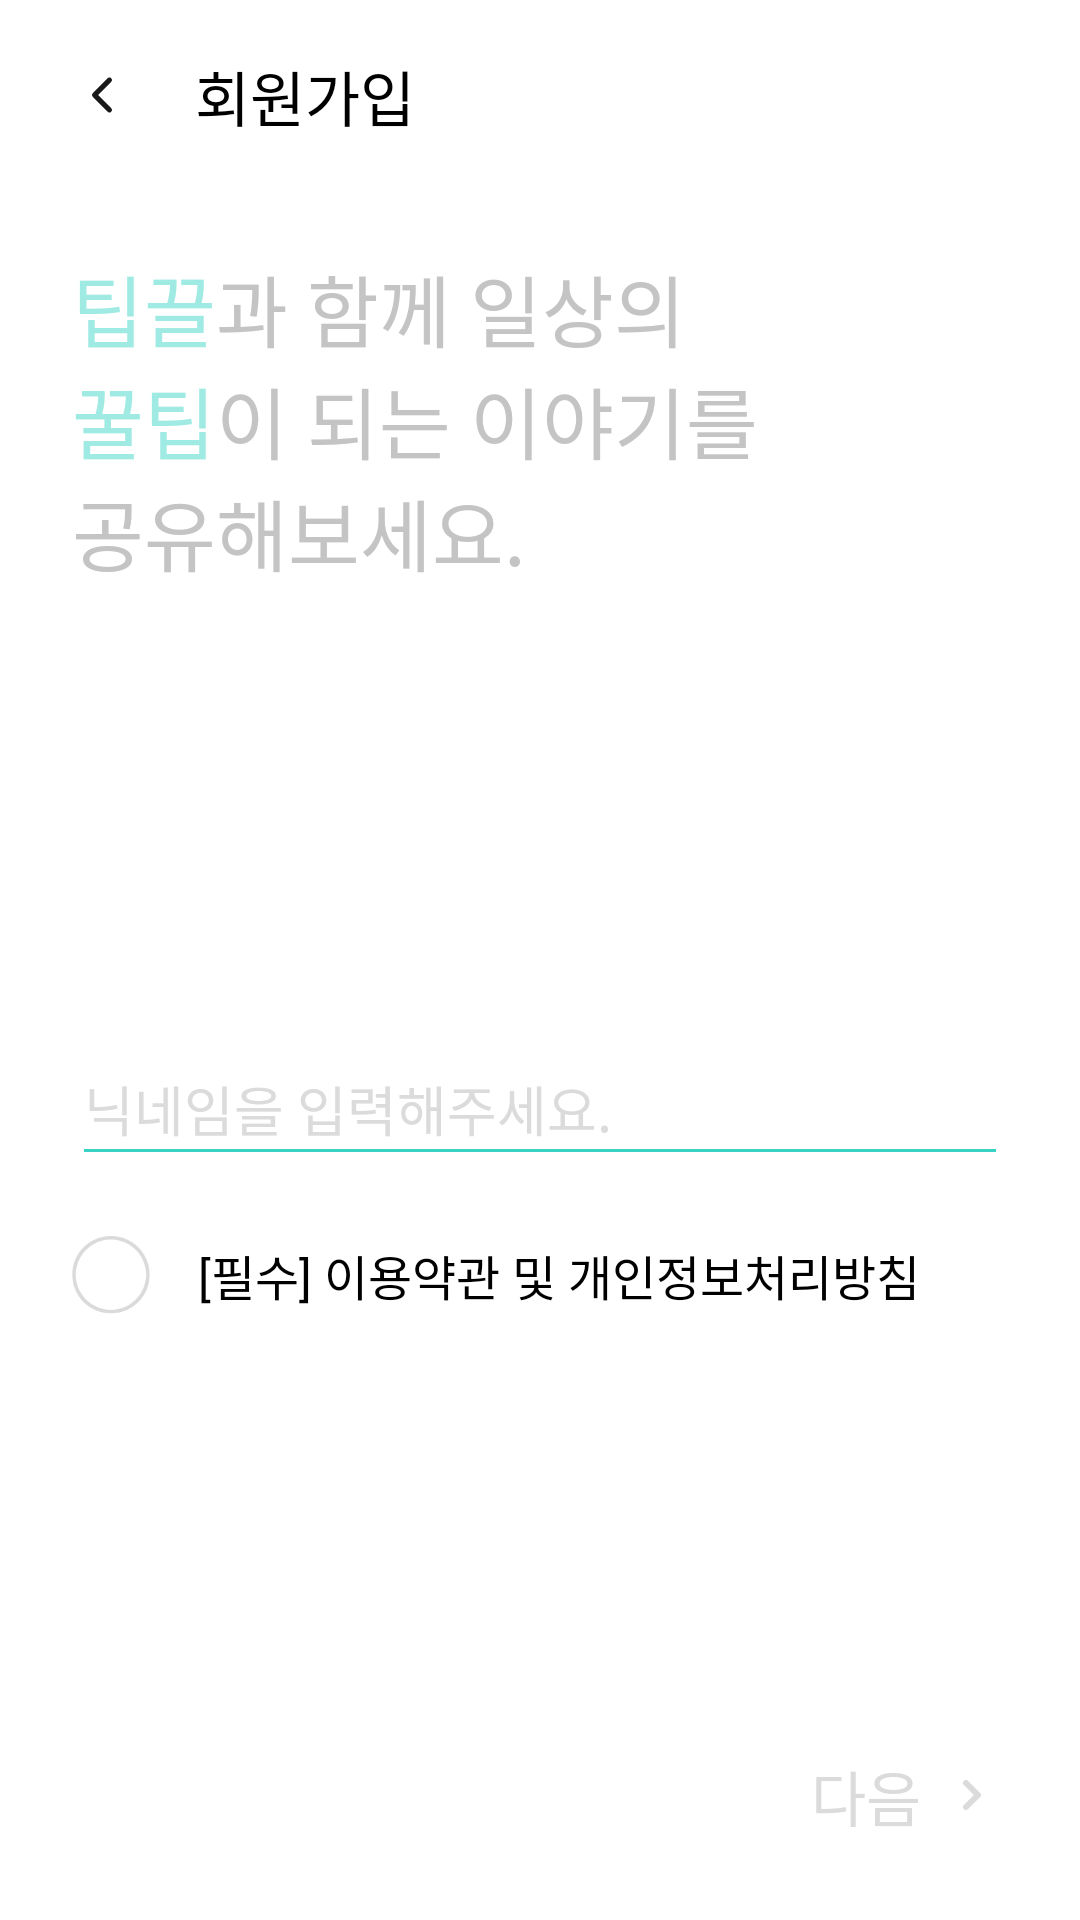

Named icons in this screenshot (1080×1920) and their centers, (x=x, y=y):
back: (x=102, y=95)
next: (x=972, y=1795)
